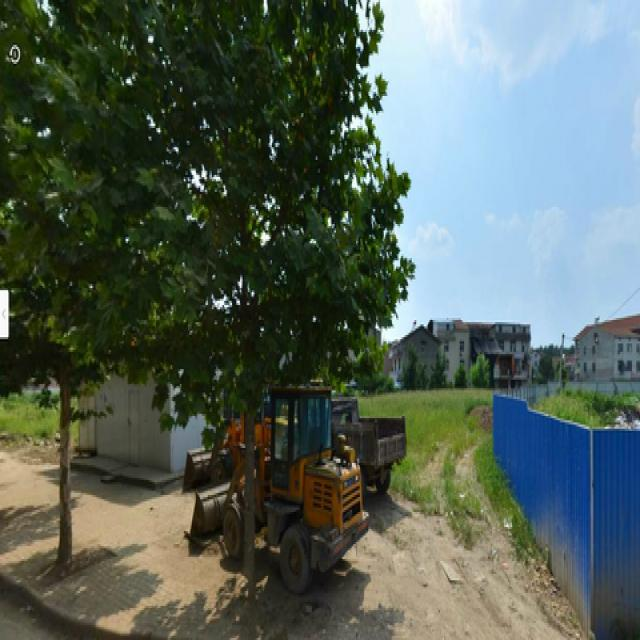meta: (173, 8, 320, 614), (7, 11, 128, 554)
